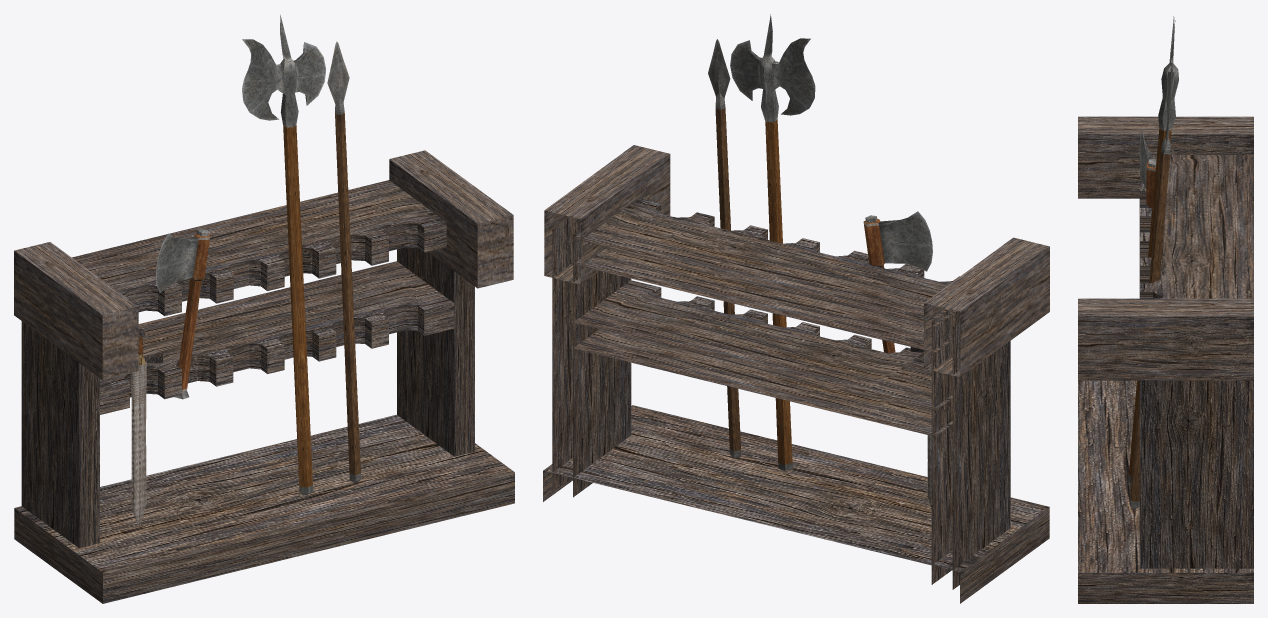
The model's file is mm9_deco_weaponrackg1.glb.
3 views of the same model, side by side, from view 1: azimuth 30°, elevation 25°; view 2: azimuth 150°, elevation 25°; view 3: azimuth 270°, elevation 25° (orthographic).
Parts seen in each view (by area): view 1: Weaponrackg1; view 2: Weaponrackg1; view 3: Weaponrackg1.
Part boxes in pixels (box(x1,y1,x2,y2)): Weaponrackg1: box(14, 14, 514, 603); Weaponrackg1: box(543, 14, 1049, 603); Weaponrackg1: box(1078, 16, 1253, 603).
Size of the model in its own units: 1.95 by 2.26 by 0.7263.
2 materials, 2 textured.
